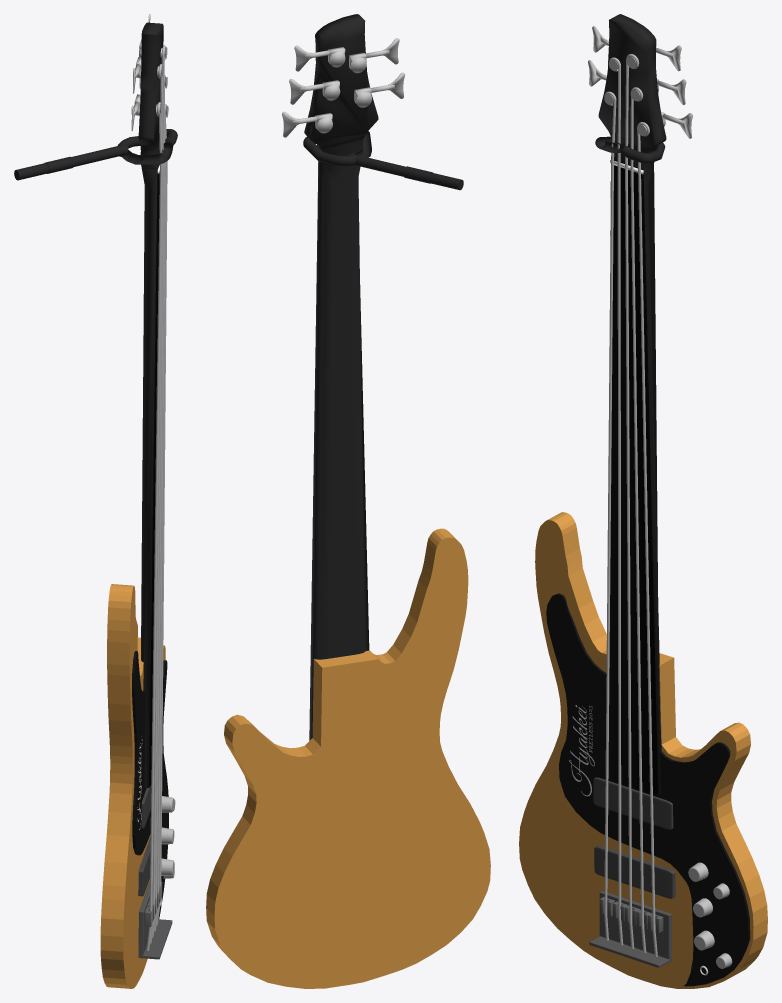
The model's file is fretless.glb.
3 renders of one model, left to right at view 1: azimuth 30°, elevation 25°; view 2: azimuth 150°, elevation 25°; view 3: azimuth 270°, elevation 25°, orthographic.
Parts seen in each view (by area): view 1: hyakkei.010; view 2: hyakkei.010; view 3: hyakkei.010.
Boxes of the visible parts, bbox=[...] form: hyakkei.010: bbox=[14, 14, 177, 988]; hyakkei.010: bbox=[206, 14, 490, 988]; hyakkei.010: bbox=[519, 14, 767, 988].
Bounding box in the file's own units: 1.12 × 5.03 × 1.18.
